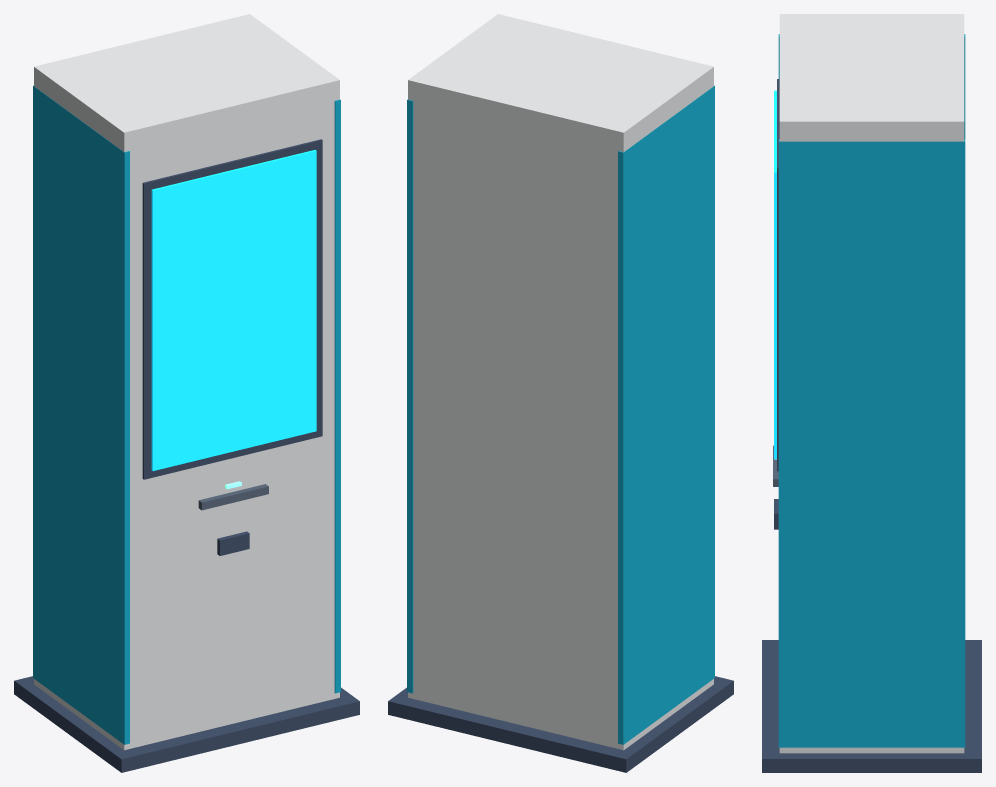
The model's file is kios_antrian_interaktif.glb.
The picture shows the model from 3 angles, left to right: view 1: azimuth 30°, elevation 25°; view 2: azimuth 150°, elevation 25°; view 3: azimuth 270°, elevation 25°; orthographic projection. The views are drawn at different scales.
Visible parts, largest first — view 1: Kios_Antrian_Interaktif; view 2: Kios_Antrian_Interaktif; view 3: Kios_Antrian_Interaktif.
Part boxes in pixels (x1,y1,x2,y2): Kios_Antrian_Interaktif: (14, 14, 359, 772); Kios_Antrian_Interaktif: (388, 14, 733, 772); Kios_Antrian_Interaktif: (762, 14, 981, 772).
Size of the model in its own units: 0.64 by 1.62 by 0.5.
